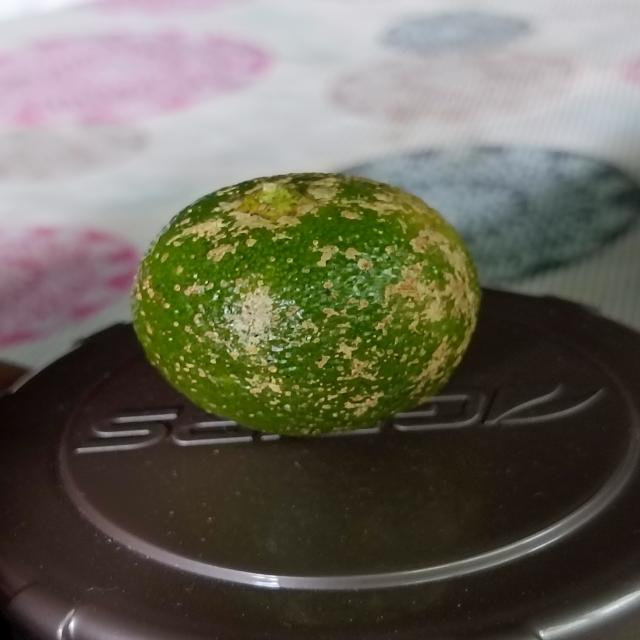scab: (122, 163, 480, 441)
